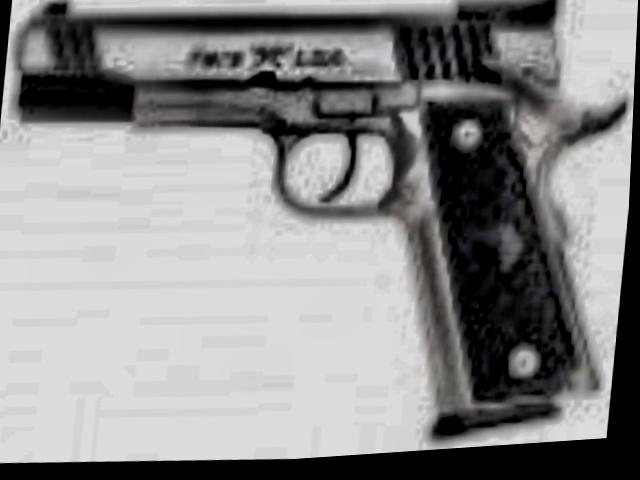pistol: (0, 0, 636, 475)
